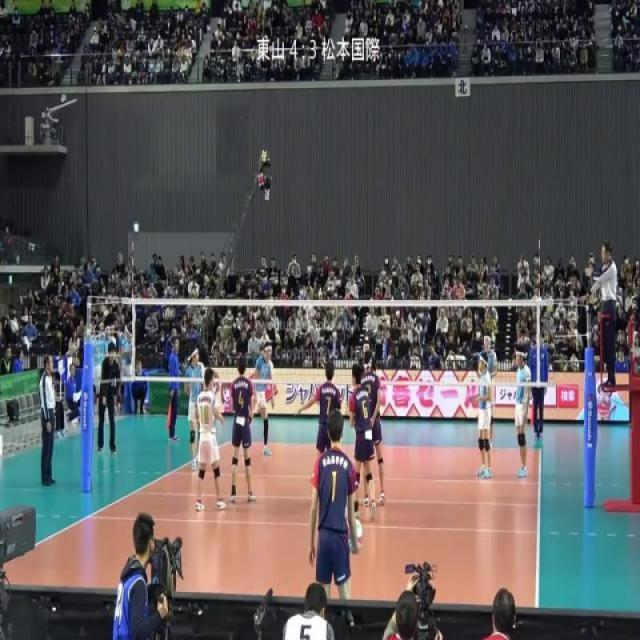volleyball: (346, 517, 364, 552)
